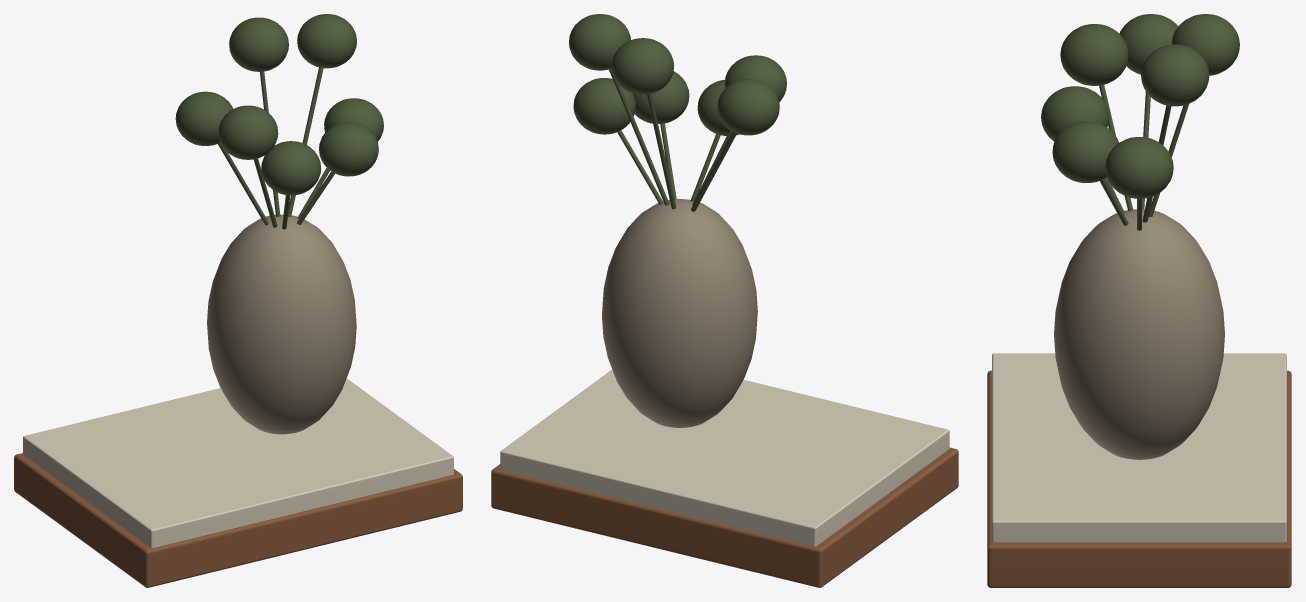
Rendered from astra-pilot--reference-bedside-styling.glb.
3 views of the same model, side by side, from view 1: azimuth 30°, elevation 25°; view 2: azimuth 150°, elevation 25°; view 3: azimuth 270°, elevation 25° (orthographic). The views are drawn at different scales.
Visible parts, largest first — view 1: Book pages, Ceramic vase, Botanical branch, Coffee table book; view 2: Book pages, Ceramic vase, Coffee table book, Botanical branch; view 3: Book pages, Ceramic vase, Botanical branch, Coffee table book.
Boxes of the visible parts, x1=… form: Book pages: x1=23, y1=378, x2=453, y2=548; Ceramic vase: x1=207, y1=214, x2=356, y2=434; Botanical branch: x1=175, y1=14, x2=383, y2=229; Coffee table book: x1=14, y1=453, x2=462, y2=587; Book pages: x1=500, y1=370, x2=949, y2=546; Ceramic vase: x1=602, y1=199, x2=757, y2=427; Coffee table book: x1=491, y1=447, x2=958, y2=587; Botanical branch: x1=569, y1=14, x2=786, y2=211; Book pages: x1=992, y1=353, x2=1286, y2=542; Ceramic vase: x1=1054, y1=209, x2=1224, y2=459; Botanical branch: x1=1041, y1=14, x2=1239, y2=230; Coffee table book: x1=987, y1=370, x2=1291, y2=587.
Bounding box in the file's own units: 0.22 × 0.2965 × 0.16.
